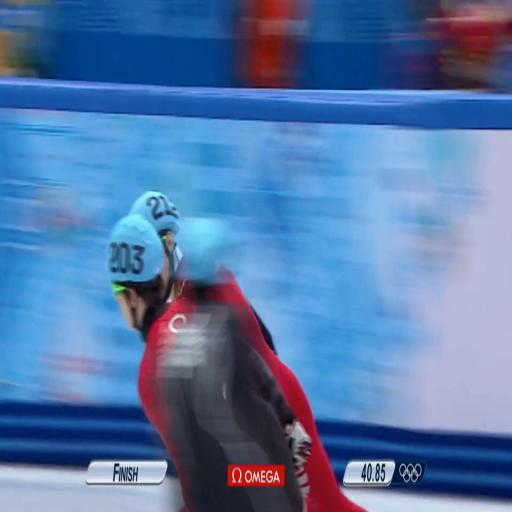Skater: (108, 215, 308, 511), (217, 266, 364, 511)
